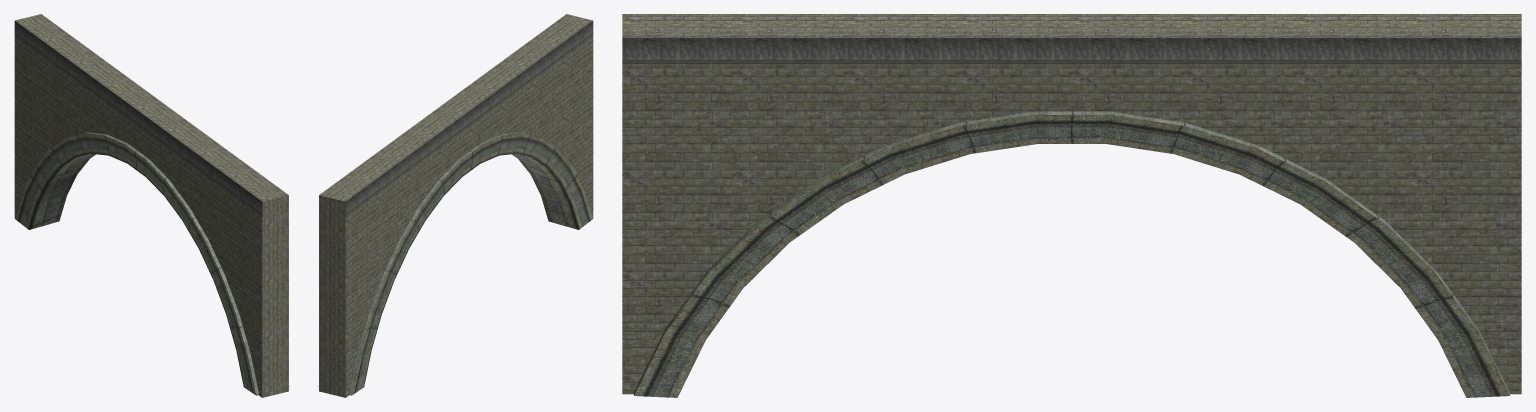
File: HugeArch_lod.fbx
3 renders of one model, left to right at view 1: azimuth 30°, elevation 25°; view 2: azimuth 150°, elevation 25°; view 3: azimuth 270°, elevation 25°, orthographic. The views are drawn at different scales.
Parts seen in each view (by area): view 1: Mesh Object; view 2: Mesh Object; view 3: Mesh Object.
Part boxes in pixels (left/top/right/bottom): Mesh Object: left=14, top=14, right=289, bottom=397; Mesh Object: left=318, top=14, right=593, bottom=397; Mesh Object: left=622, top=14, right=1521, bottom=397.
Size of the model in its own units: 1.27 by 7.03 by 16.
